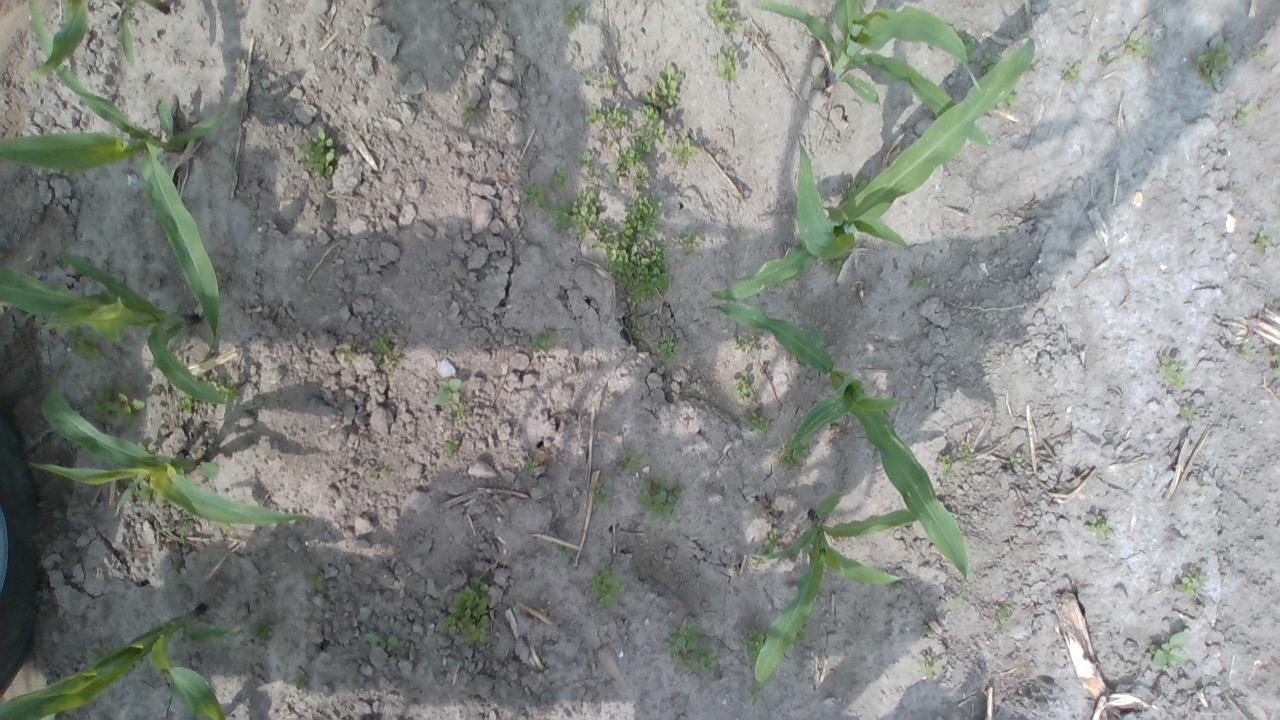Maize: (713, 35, 1037, 304), (703, 298, 970, 612), (0, 0, 228, 364), (0, 250, 266, 414), (28, 383, 308, 527), (754, 0, 990, 148), (751, 490, 922, 694), (0, 604, 242, 720), (24, 0, 170, 88)
Weeds: (607, 241, 674, 306), (436, 576, 493, 648), (550, 191, 604, 242), (668, 622, 720, 673), (87, 384, 147, 428), (637, 472, 686, 524), (618, 195, 664, 248), (293, 126, 338, 178), (64, 326, 114, 369), (643, 64, 683, 110), (629, 103, 665, 153), (612, 144, 650, 188), (589, 564, 625, 610), (1194, 42, 1230, 82), (1150, 631, 1188, 668), (433, 378, 464, 423), (194, 374, 240, 404), (1155, 351, 1187, 390), (707, 0, 743, 34), (666, 135, 700, 168), (584, 104, 626, 130), (368, 334, 400, 368), (710, 48, 741, 82), (246, 613, 282, 642), (739, 628, 768, 662), (1173, 568, 1204, 598), (778, 438, 812, 464), (591, 220, 620, 250), (132, 477, 161, 507), (519, 182, 550, 209), (1123, 31, 1152, 58), (840, 176, 871, 200), (654, 336, 681, 362), (533, 327, 561, 352), (729, 370, 754, 398), (994, 600, 1016, 630), (618, 448, 643, 473), (676, 231, 703, 254), (366, 630, 400, 648), (738, 334, 760, 360), (1086, 512, 1108, 538), (936, 454, 956, 481), (747, 411, 770, 434), (763, 526, 783, 552), (551, 166, 570, 191), (590, 483, 608, 509), (978, 50, 996, 76), (961, 33, 977, 62), (136, 437, 160, 455), (1236, 101, 1256, 122), (1248, 231, 1270, 250), (564, 5, 582, 28), (578, 169, 602, 186), (175, 391, 192, 414), (957, 442, 976, 462), (1002, 88, 1018, 110), (462, 99, 480, 118), (1062, 63, 1082, 80), (924, 652, 937, 678), (306, 573, 324, 590), (333, 346, 352, 362), (555, 542, 576, 556), (1248, 43, 1264, 60), (913, 270, 928, 288), (444, 439, 458, 457), (576, 149, 595, 162), (830, 258, 846, 273), (48, 369, 64, 384), (1009, 452, 1023, 468), (632, 318, 650, 330), (602, 73, 616, 88), (795, 624, 807, 641), (582, 72, 596, 86), (524, 457, 538, 471), (1240, 344, 1252, 360), (1271, 344, 1280, 362), (170, 560, 180, 576), (750, 690, 761, 704), (1100, 50, 1110, 65), (923, 624, 934, 636), (996, 224, 1008, 235), (366, 470, 376, 482), (1182, 406, 1194, 416), (1271, 366, 1280, 379), (295, 678, 305, 688), (1272, 204, 1280, 208)
